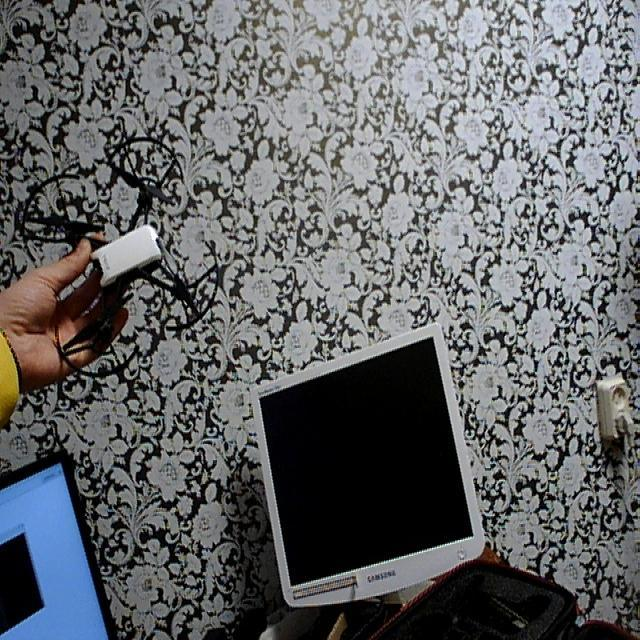drones: (0, 4, 634, 640), (3, 138, 228, 386)
